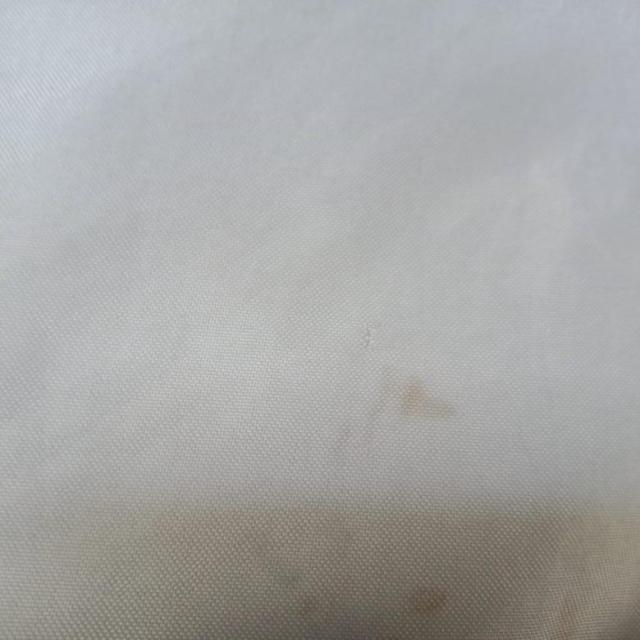stain: (388, 371, 463, 425), (400, 581, 458, 618)
